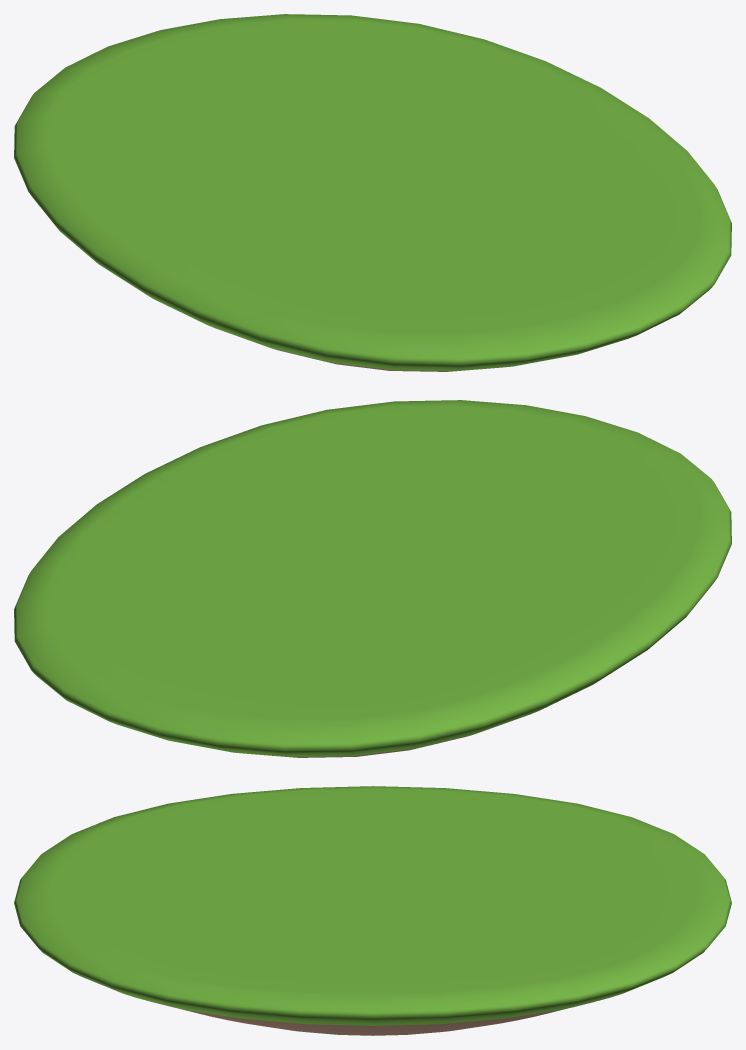
Rendered from ground.fbx.
3 views of the same model, one above another, from view 1: azimuth 30°, elevation 25°; view 2: azimuth 150°, elevation 25°; view 3: azimuth 270°, elevation 25° (orthographic). The views are drawn at different scales.
Visible parts, largest first — view 1: Ground; view 2: Ground; view 3: Ground.
Boxes of the visible parts, left/top/right/bottom form: Ground: left=14, top=14, right=731, bottom=371; Ground: left=14, top=400, right=731, bottom=757; Ground: left=14, top=786, right=731, bottom=1035.
Size of the model in its own units: 5214 by 1339 by 6952.
